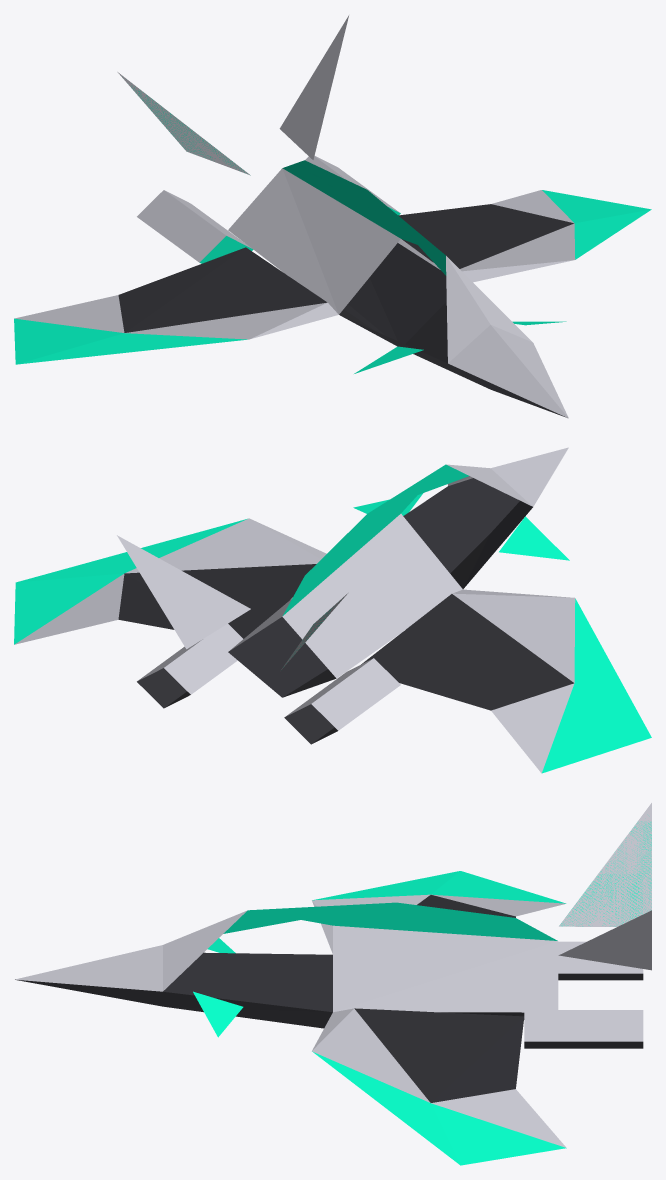
The model's file is player.obj.
3 renders of one model, top to bottom at view 1: azimuth 30°, elevation 25°; view 2: azimuth 150°, elevation 25°; view 3: azimuth 270°, elevation 25°, orthographic. The views are drawn at different scales.
Size of the model in its own units: 164 by 45 by 150.
